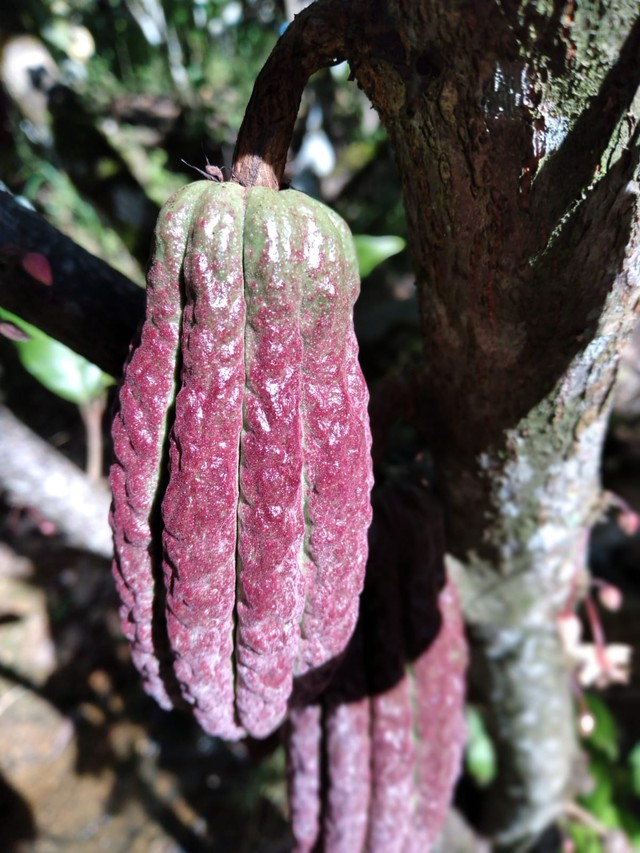Health: (91, 157, 392, 750)
